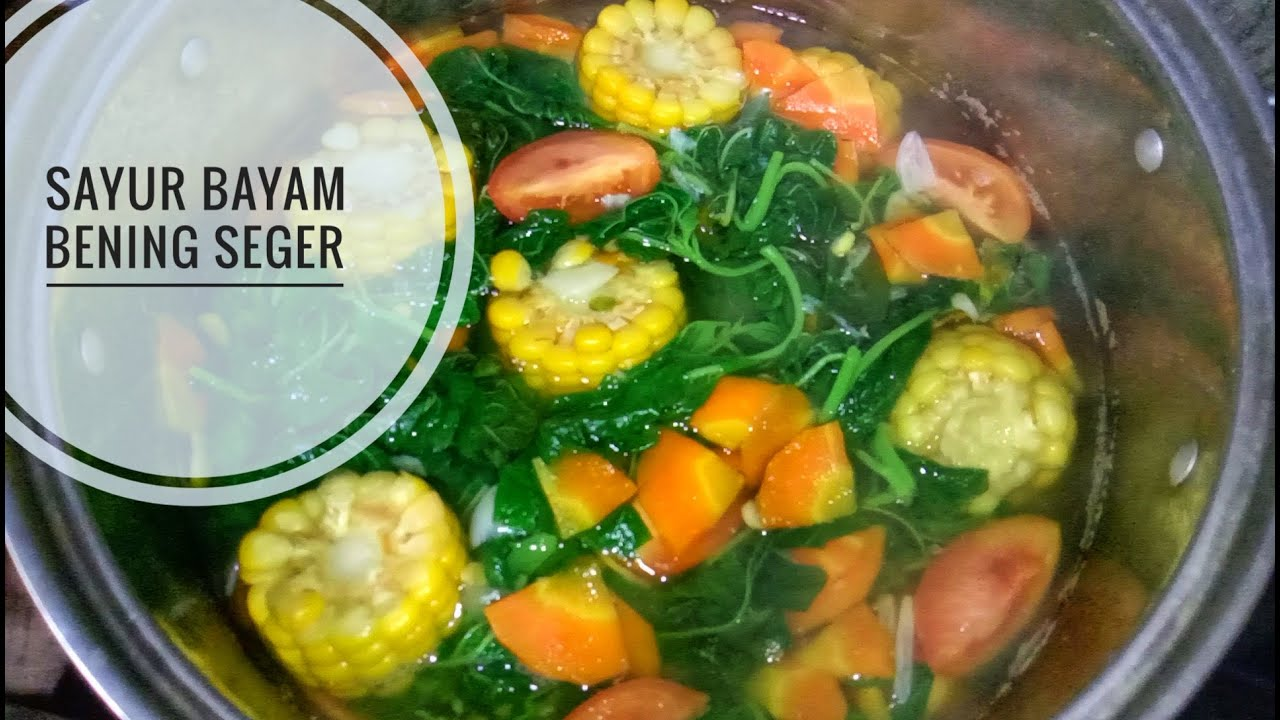Sayur Bayam: (200, 44, 1097, 691)
